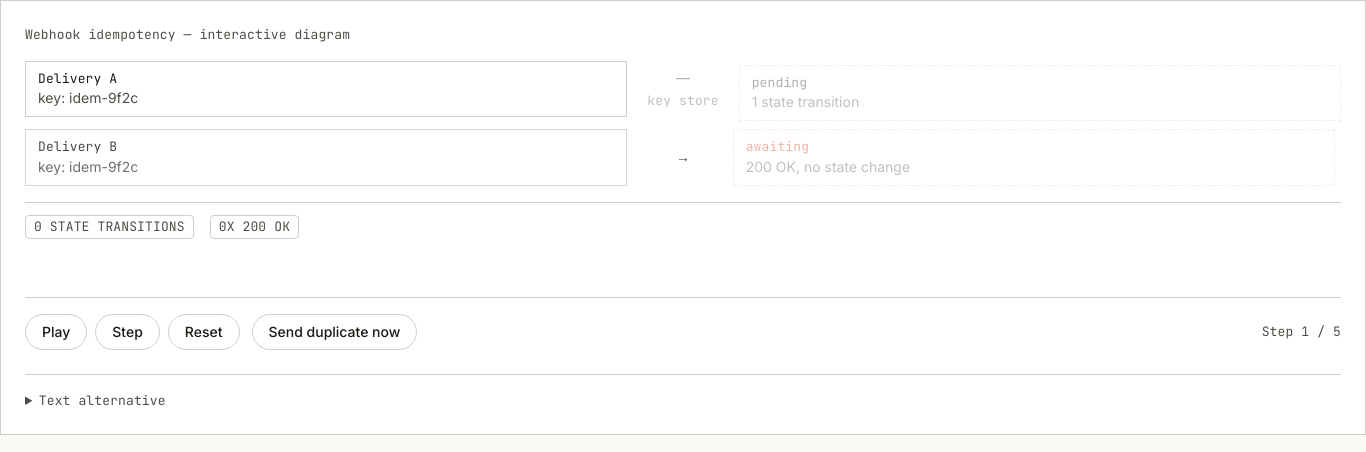
Test: WebhookIdempotencyDiagram › Step advances exactly one step and stays paused
Click the button "Step" at (128, 332), box x1=95 y1=314 x2=160 y2=350
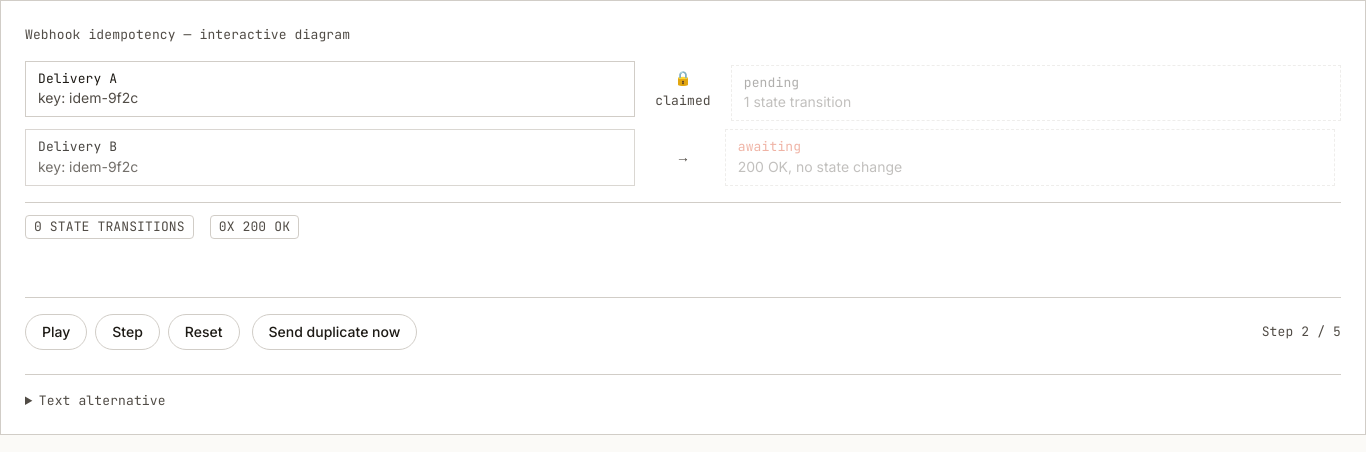
Expected: the button "Play" is shown, x1=25 y1=314 x2=87 y2=350
Result: the text "Step 2 / 5" is shown at x1=1262 y1=322 x2=1341 y2=341
